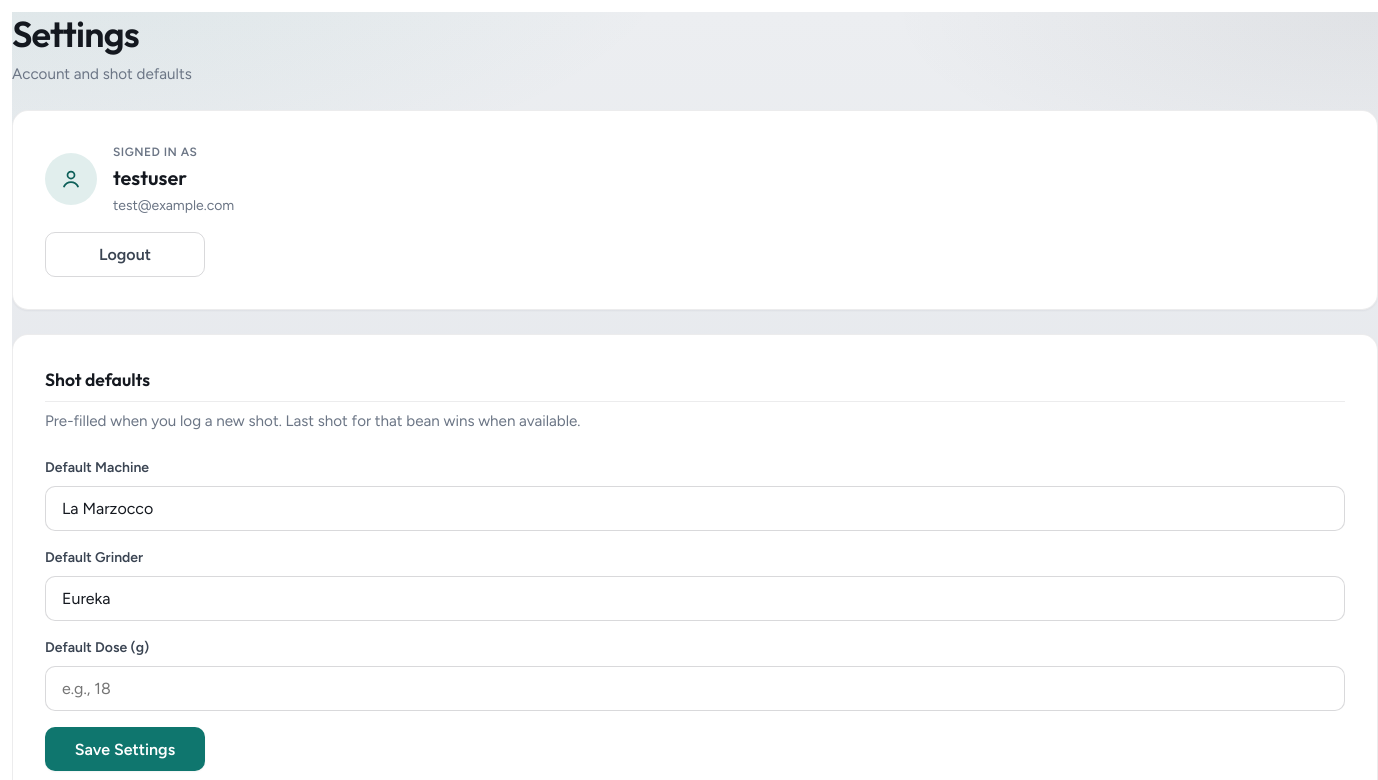
Test: Settings › should handle save error
The width and height of the screenshot is (1378, 780).
expect the field labelled "Default Machine" holds "La Marzocco": met, box [45,486,1345,531]
Click the button "Save Settings" at (125, 749), box [45,727,205,771]
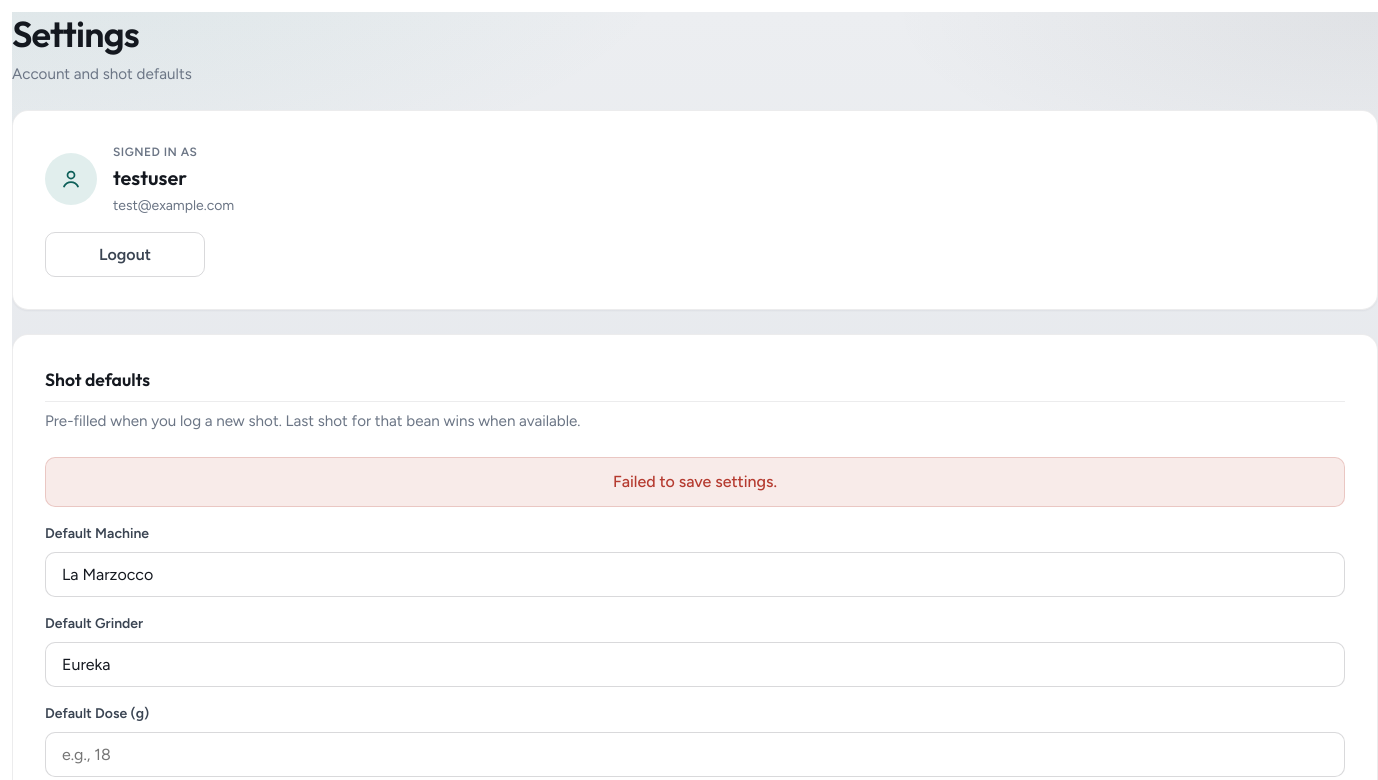
expect the text "Failed to save settings." is shown: met, box [45,457,1345,507]
